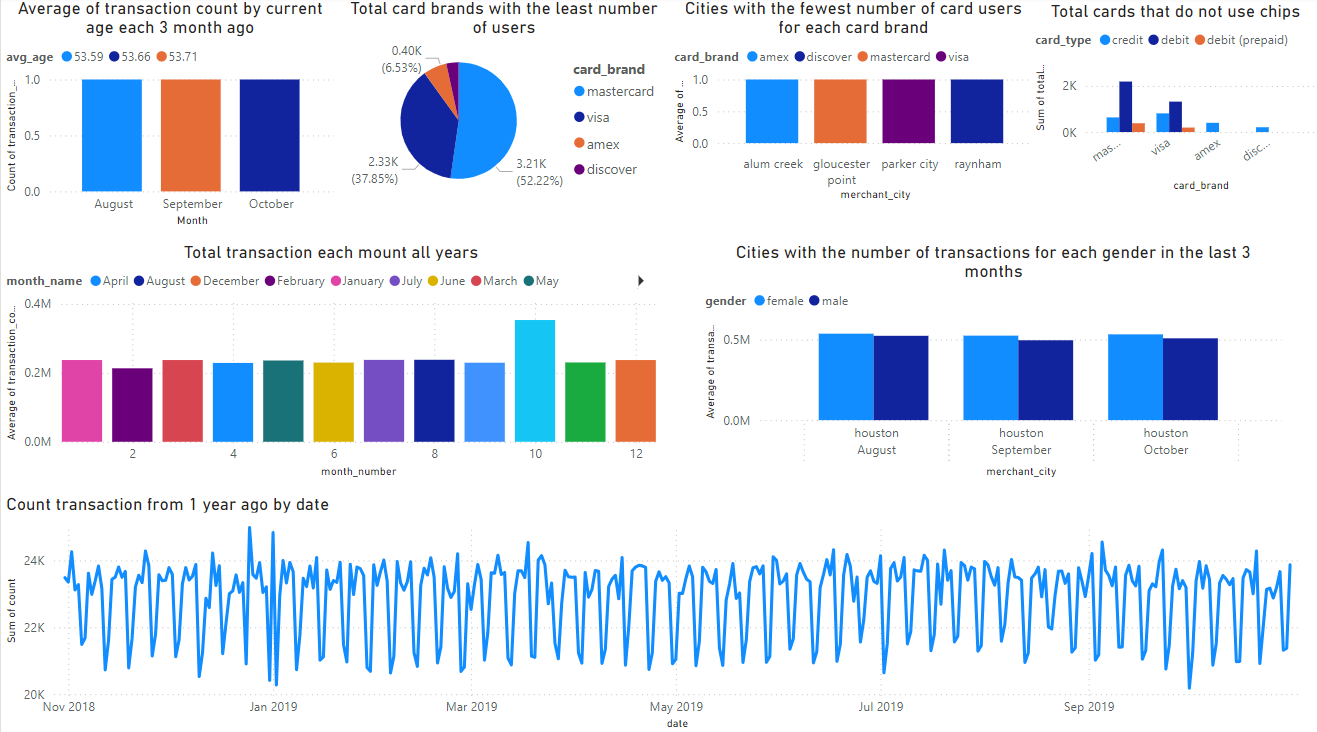

This screenshot's page, from the dashboard's own definition file:
{"tool":"powerbi","page":{"name":"Page 1","canvas":[1280,720],"ordinal":0},"visuals":[{"type":"columnChart","title":"Average of transaction count by current age each 3 month ago","fields":{"Category":["age_by_month.date.Variation.Date Hierarchy.Month"],"Series":["age_by_month.avg_age"],"Y":["CountNonNull(age_by_month.transaction_count)"]},"box":[0,0,328.3,227.5],"z":0},{"type":"pieChart","title":"Total card brands with the least number of users","fields":{"Category":["brand_kartu dengan pengguna paling sedikit.card_brand"],"Y":["Avg(brand_kartu dengan pengguna paling sedikit.count_card_brand)"]},"box":[328.2,0,364.4,202],"z":1000},{"type":"columnChart","title":"Total transaction each mount all years","fields":{"Series":["jumlah_transaksi_tiap_bulan.month_name"],"Category":["jumlah_transaksi_tiap_bulan.month_number"],"Y":["Avg(jumlah_transaksi_tiap_bulan.transaction_count)"]},"box":[0,237.1,772,233.6],"z":2000},{"type":"columnChart","title":"Cities with the fewest number of card users for each card brand","fields":{"Series":["kota dengan transaksi kartu paling sedikit untuks setiap brand.card_brand"],"Category":["kota dengan transaksi kartu paling sedikit untuks setiap brand.merchant_city"],"Y":["Avg(kota dengan transaksi kartu paling sedikit untuks setiap brand.transaction_count)"]},"box":[720.6,0,483.5,202],"z":3000},{"type":"clusteredColumnChart","title":"Cities with the number of transactions for each gender in the last 3 months","fields":{"Y":["Avg(merchant_city_by_gender.transaction_count)"],"Category":["merchant_city_by_gender.date.Variation.Date Hierarchy.Month","merchant_city_by_gender.merchant_city"],"Series":["merchant_city_by_gender.gender"]},"box":[0,481.2,568.8,233.6],"z":4000},{"type":"clusteredColumnChart","title":"Total cards that do not use chips","fields":{"Category":["non_has_chip.card_brand"],"Y":["Sum(non_has_chip.total_non_chip)"],"Series":["non_has_chip.card_type"]},"box":[812.8,237.1,413.4,233.6],"z":5000}]}

Visuals, with their boxes in screenshot pixels (x1, y1, x2, y2), scaled from the page's 1280x720 canvas onto the 1317x732 screenshot:
"Average of transaction count by current age each 3 month ago" columnChart: rect(0, 0, 338, 231)
"Total card brands with the least number of users" pieChart: rect(338, 0, 713, 205)
"Total transaction each mount all years" columnChart: rect(0, 241, 794, 479)
"Cities with the fewest number of card users for each card brand" columnChart: rect(741, 0, 1239, 205)
"Cities with the number of transactions for each gender in the last 3 months" clusteredColumnChart: rect(0, 489, 585, 727)
"Total cards that do not use chips" clusteredColumnChart: rect(836, 241, 1262, 479)
